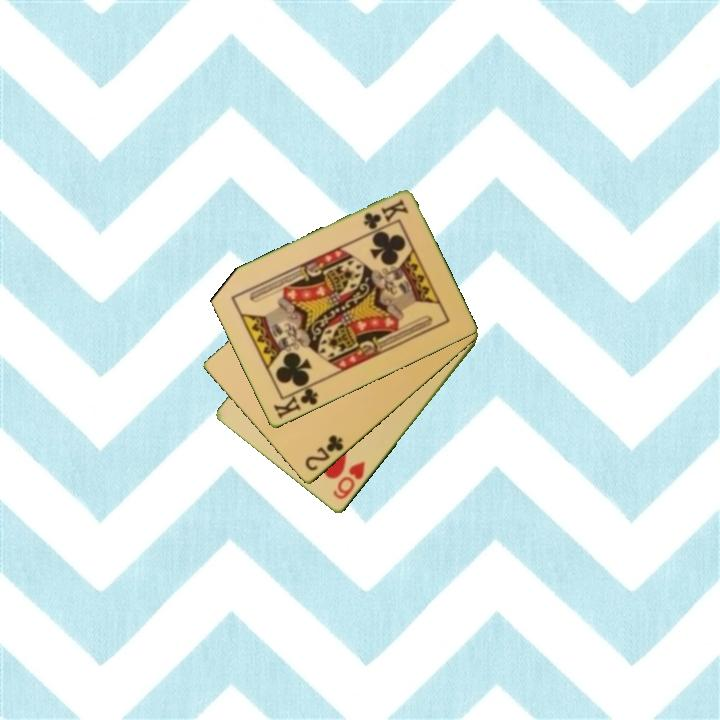2c: (301, 431, 347, 474)
6h: (330, 458, 368, 503)
Kc: (270, 380, 321, 422), (360, 196, 411, 233)
